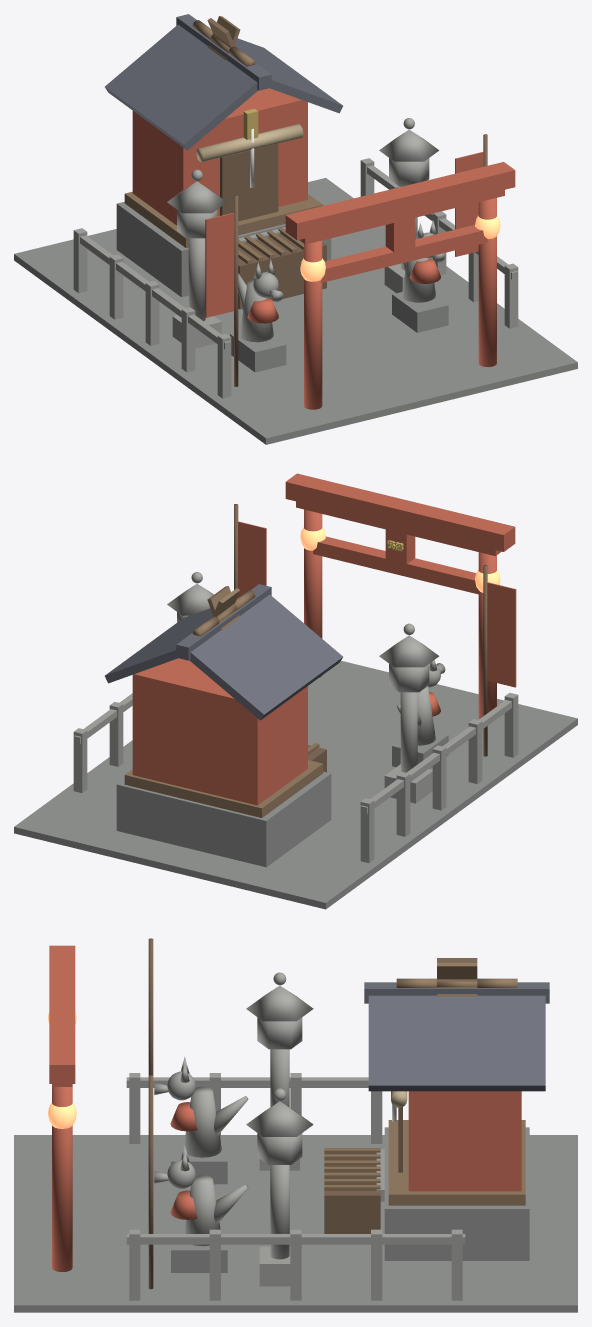
Rendered from prop_jinja_inari.glb.
The picture shows the model from 3 angles, top to bottom: view 1: azimuth 30°, elevation 25°; view 2: azimuth 150°, elevation 25°; view 3: azimuth 270°, elevation 25°; orthographic projection. The views are drawn at different scales.
Parts seen in each view (by area): view 1: jinja_inari; view 2: jinja_inari; view 3: jinja_inari.
Boxes of the visible parts, <box> form: jinja_inari: <box>14,14,577,444</box>; jinja_inari: <box>14,473,577,909</box>; jinja_inari: <box>14,938,577,1312</box>.
Bounding box in the file's own units: 5 × 3.65 × 7.
